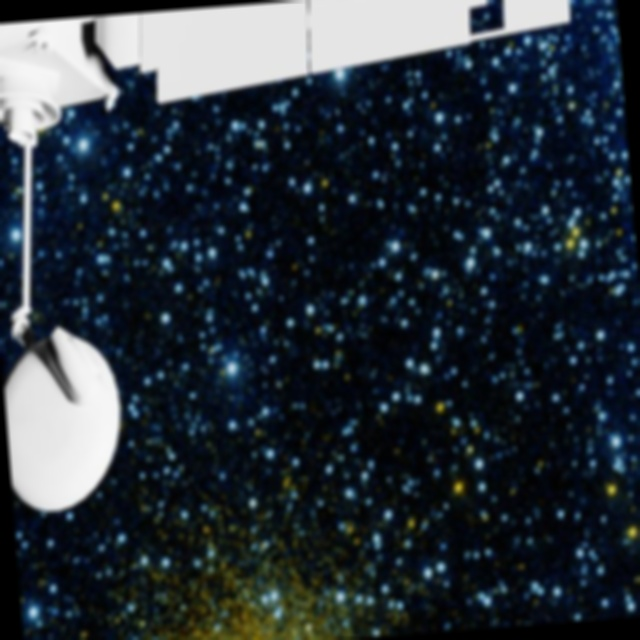satellite: (0, 0, 634, 541)
